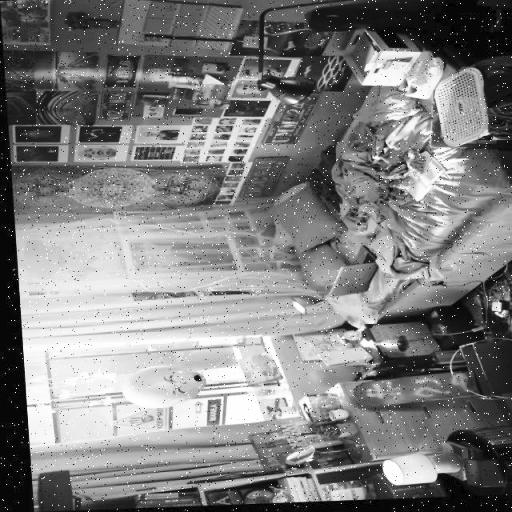balloon: (119, 366, 202, 408)
